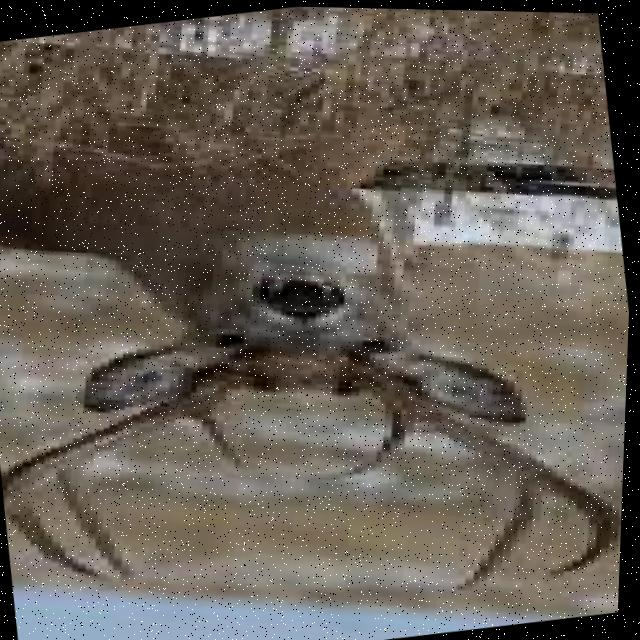L-G1: (313, 404, 421, 484)
L-G2: (455, 479, 551, 595)
L-G3: (370, 379, 626, 577)
R-F: (4, 378, 243, 500)
R-G1: (190, 410, 248, 469)
R-G2: (58, 449, 143, 584)
R-G3: (8, 488, 121, 584)
